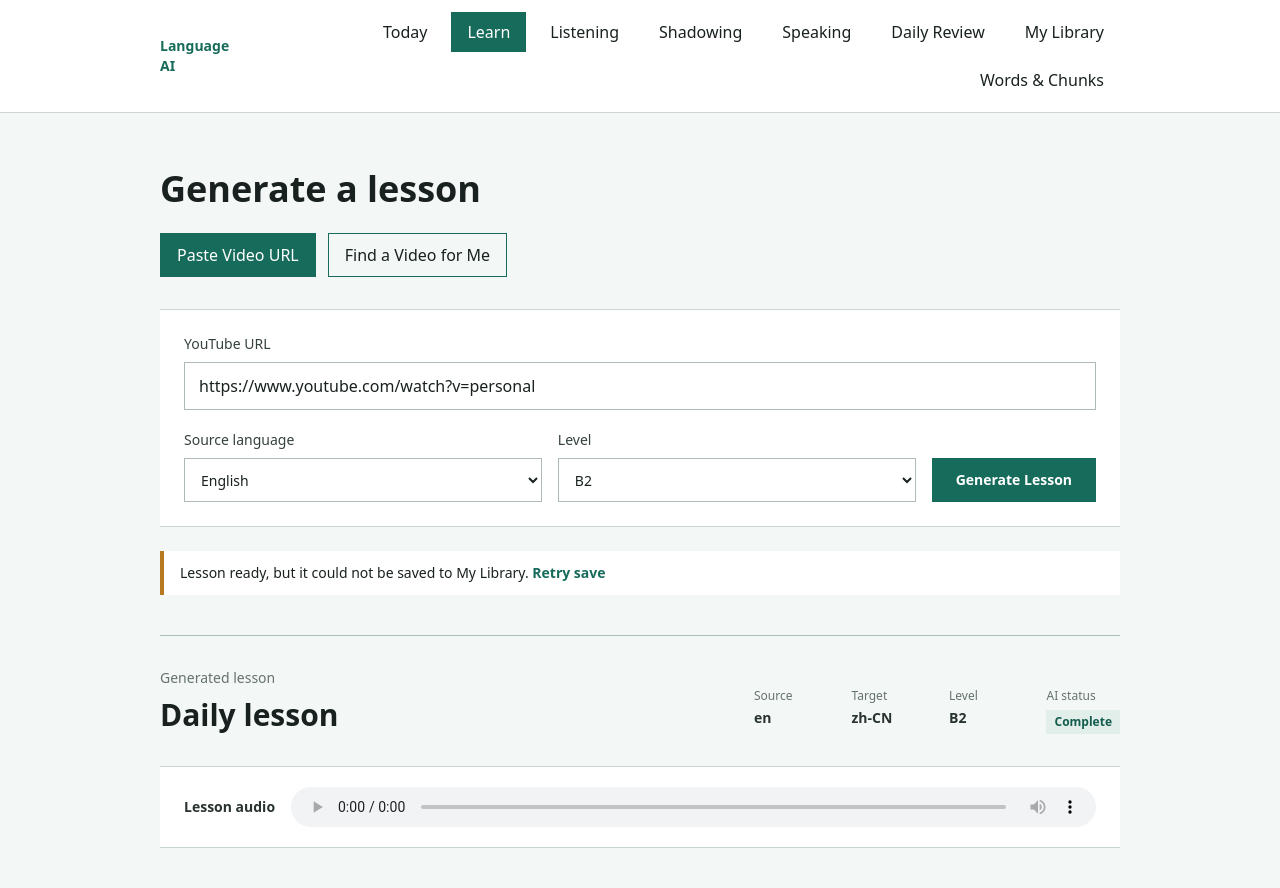
Scenario: App Library navigation › provides top-level Words & Chunks navigation without changing the active session
This screenshot has width=1280, height=888.
Click the button "Words & Chunks": click(1042, 80) [964,60,1120,100]
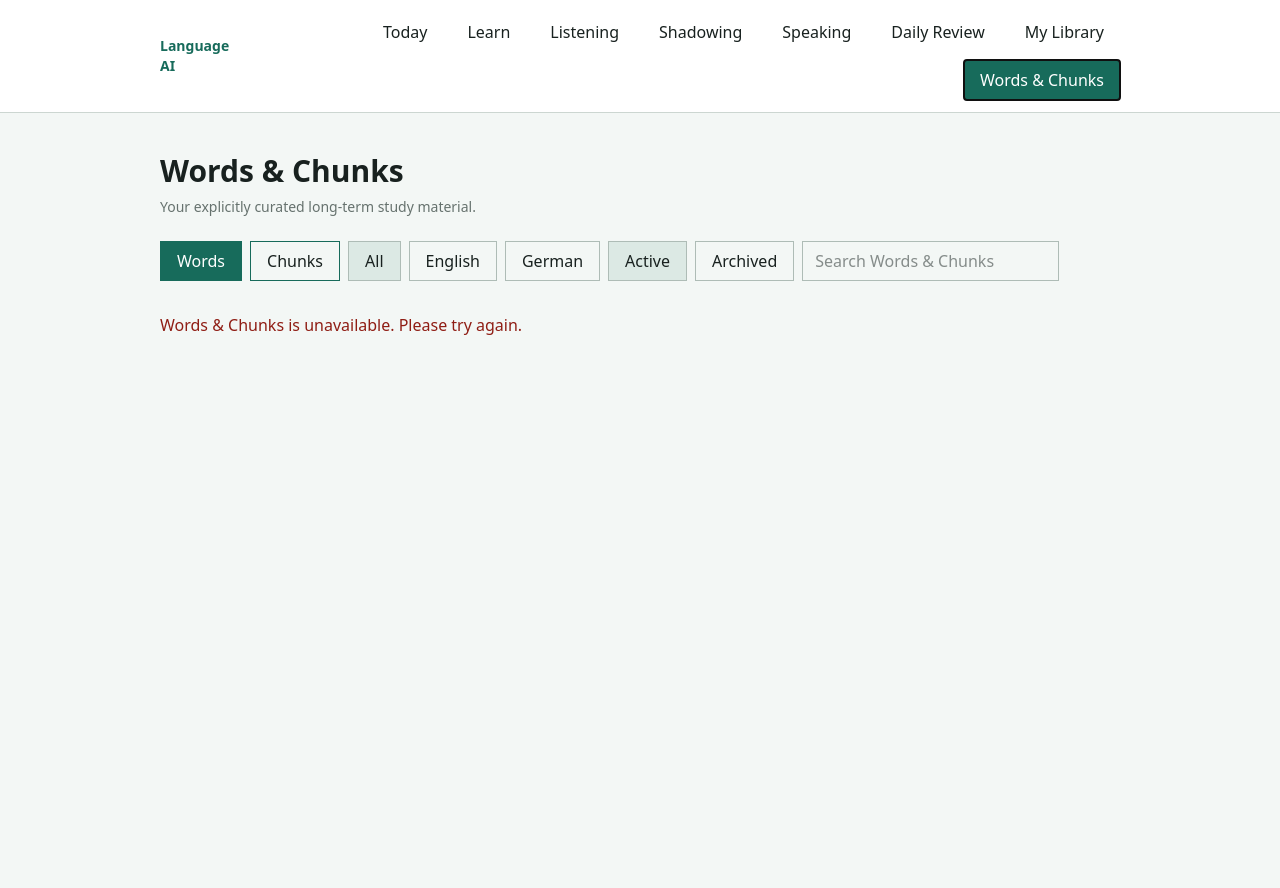
Check: the heading "Words & Chunks" is shown, box [160,150,404,191]
